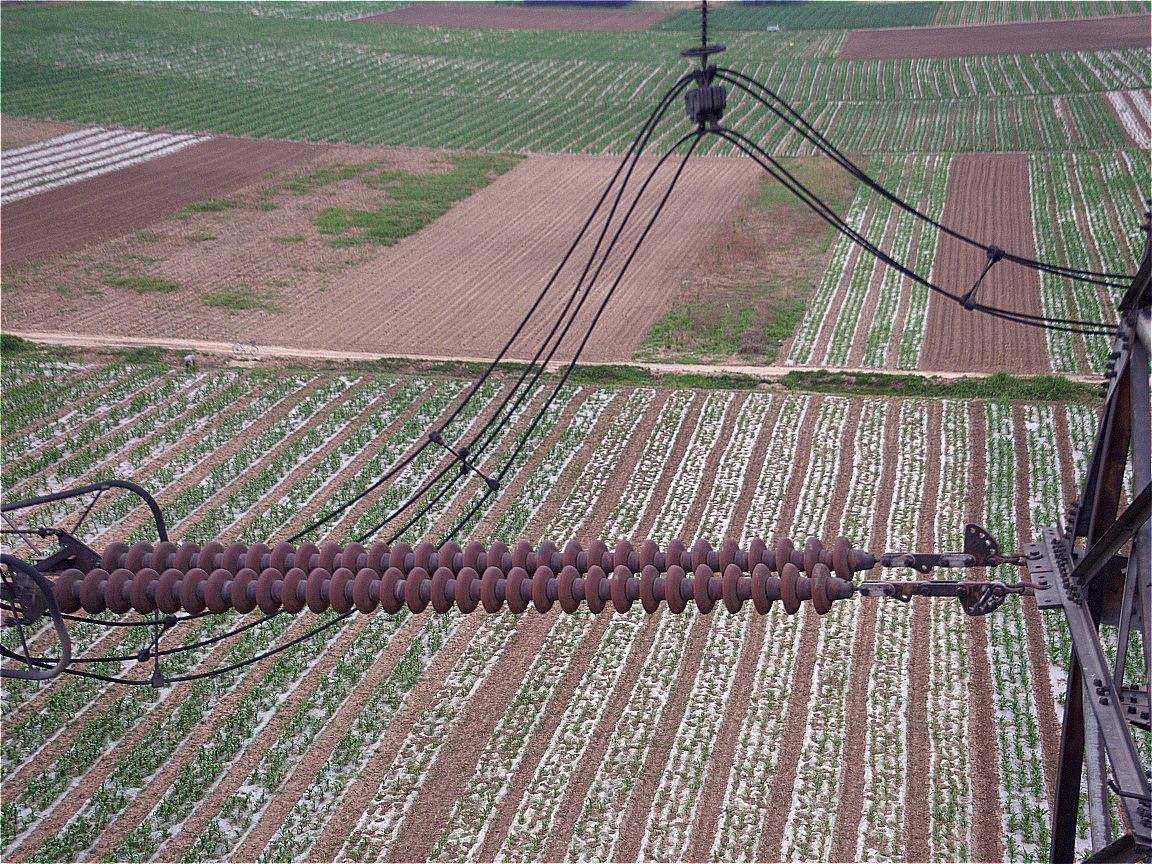insultor1: (42, 519, 876, 642)
